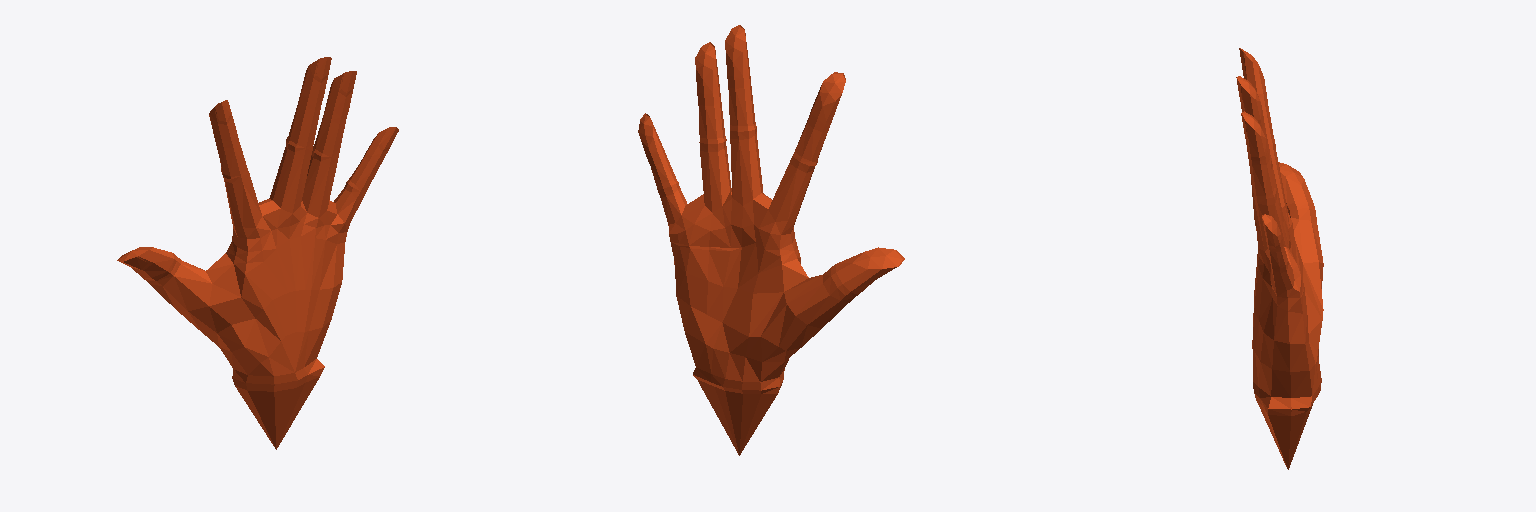
3 renders of one model, left to right at view 1: azimuth 30°, elevation 25°; view 2: azimuth 150°, elevation 25°; view 3: azimuth 270°, elevation 25°, orthographic.
Visible parts, largest first — view 1: Hand_paa_B_MDL; view 2: Hand_paa_B_MDL; view 3: Hand_paa_B_MDL.
Part boxes in pixels (bbox=[...]): Hand_paa_B_MDL: bbox=[117, 57, 398, 449]; Hand_paa_B_MDL: bbox=[638, 25, 904, 455]; Hand_paa_B_MDL: bbox=[1236, 48, 1323, 469].
Bounding box in the file's own units: 14.33 × 20.55 × 4.01.
1 materials, 1 textured.